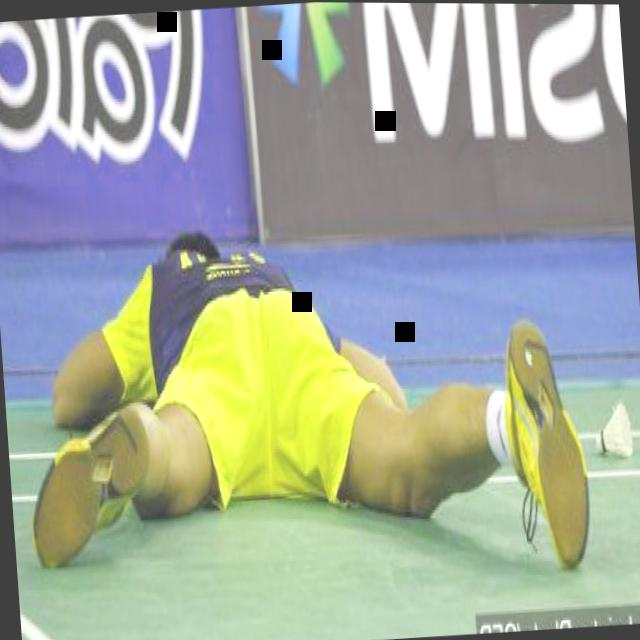Fall-Detected: (0, 123, 605, 610)
